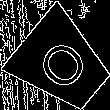O_SE: (30, 31, 94, 96)
